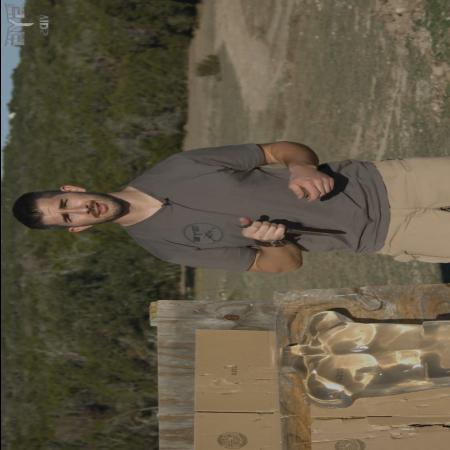long weapon: (233, 214, 334, 241)
